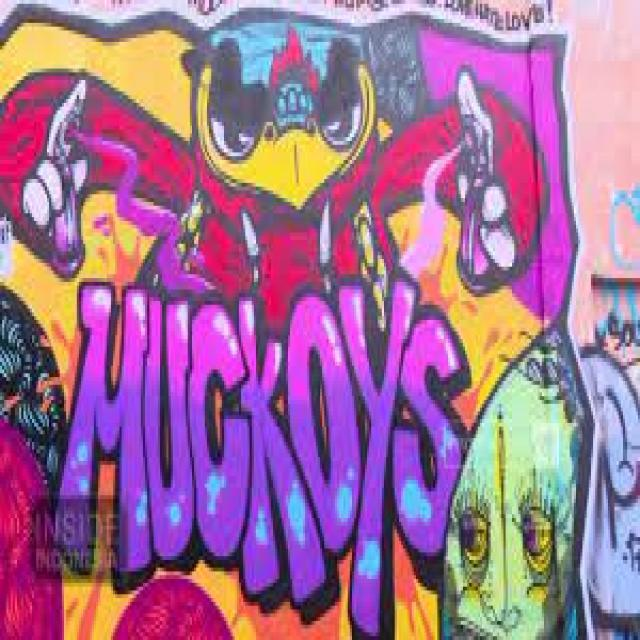-: (0, 30, 574, 640), (51, 281, 466, 640), (443, 321, 640, 640)
